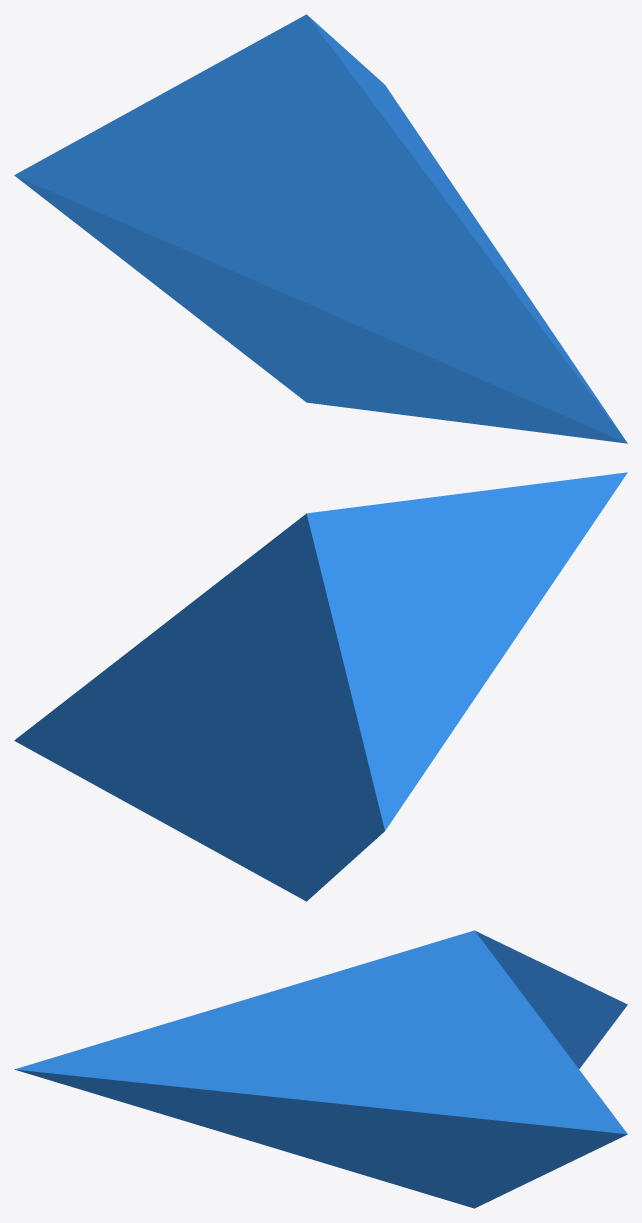
Rendered from MithrilArrowhead.glb.
The picture shows the model from 3 angles, top to bottom: view 1: azimuth 30°, elevation 25°; view 2: azimuth 150°, elevation 25°; view 3: azimuth 270°, elevation 25°; orthographic projection. The views are drawn at different scales.
Visible parts, largest first — view 1: MithrilArrowhead; view 2: MithrilArrowhead; view 3: MithrilArrowhead.
Boxes of the visible parts, left/top/right/bottom form: MithrilArrowhead: left=14, top=14, right=627, bottom=443; MithrilArrowhead: left=14, top=472, right=627, bottom=901; MithrilArrowhead: left=14, top=930, right=627, bottom=1208.
Size of the model in its own units: 0.0506 by 0.0506 by 0.1011.
